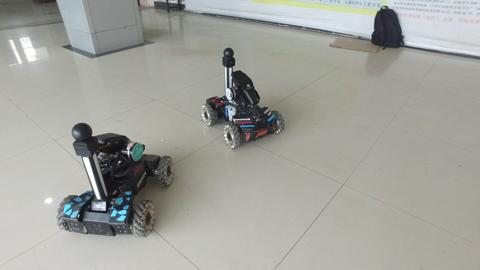chariot: (53, 117, 174, 240), (196, 42, 288, 159)
